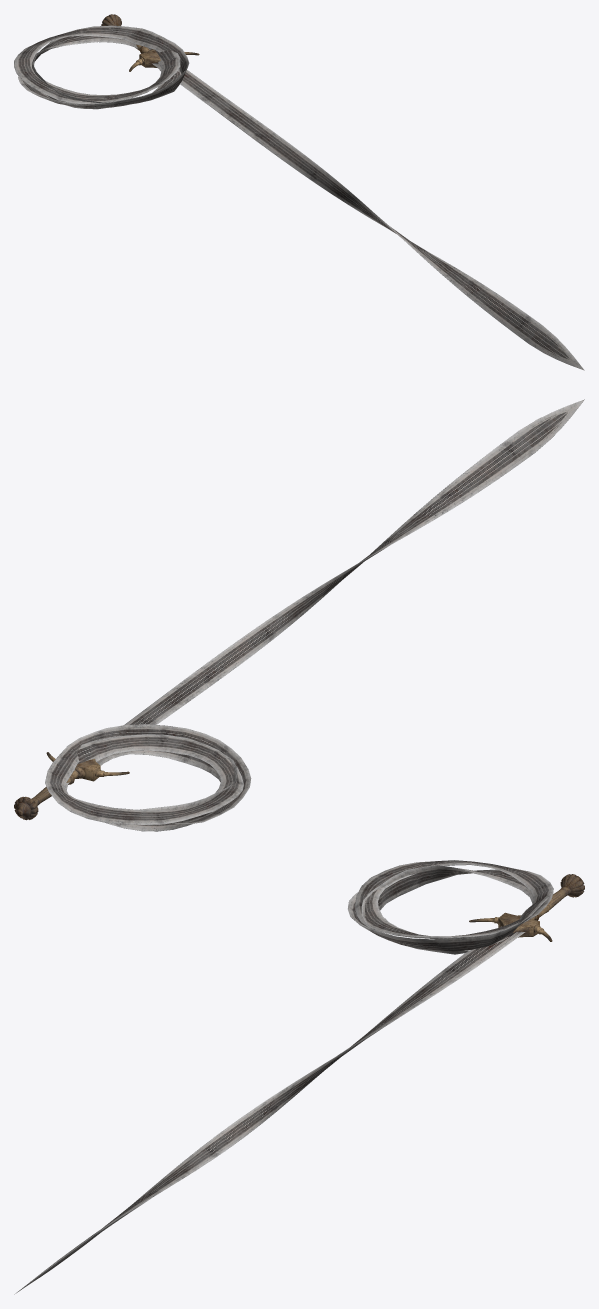
The model's file is urumi.fbx.
3 views of the same model, one above another, from view 1: azimuth 30°, elevation 25°; view 2: azimuth 150°, elevation 25°; view 3: azimuth 330°, elevation 25° (orthographic). The views are drawn at different scales.
Visible parts, largest first — view 1: WP_A_1208; view 2: WP_A_1208; view 3: WP_A_1208.
Boxes of the visible parts, <box> form: WP_A_1208: <box>14,14,584,370</box>; WP_A_1208: <box>14,399,584,831</box>; WP_A_1208: <box>14,860,584,1294</box>.
Bounding box in the file's own units: 45.52 × 6.49 × 228.
Materials: 1 (1 with a texture image).
